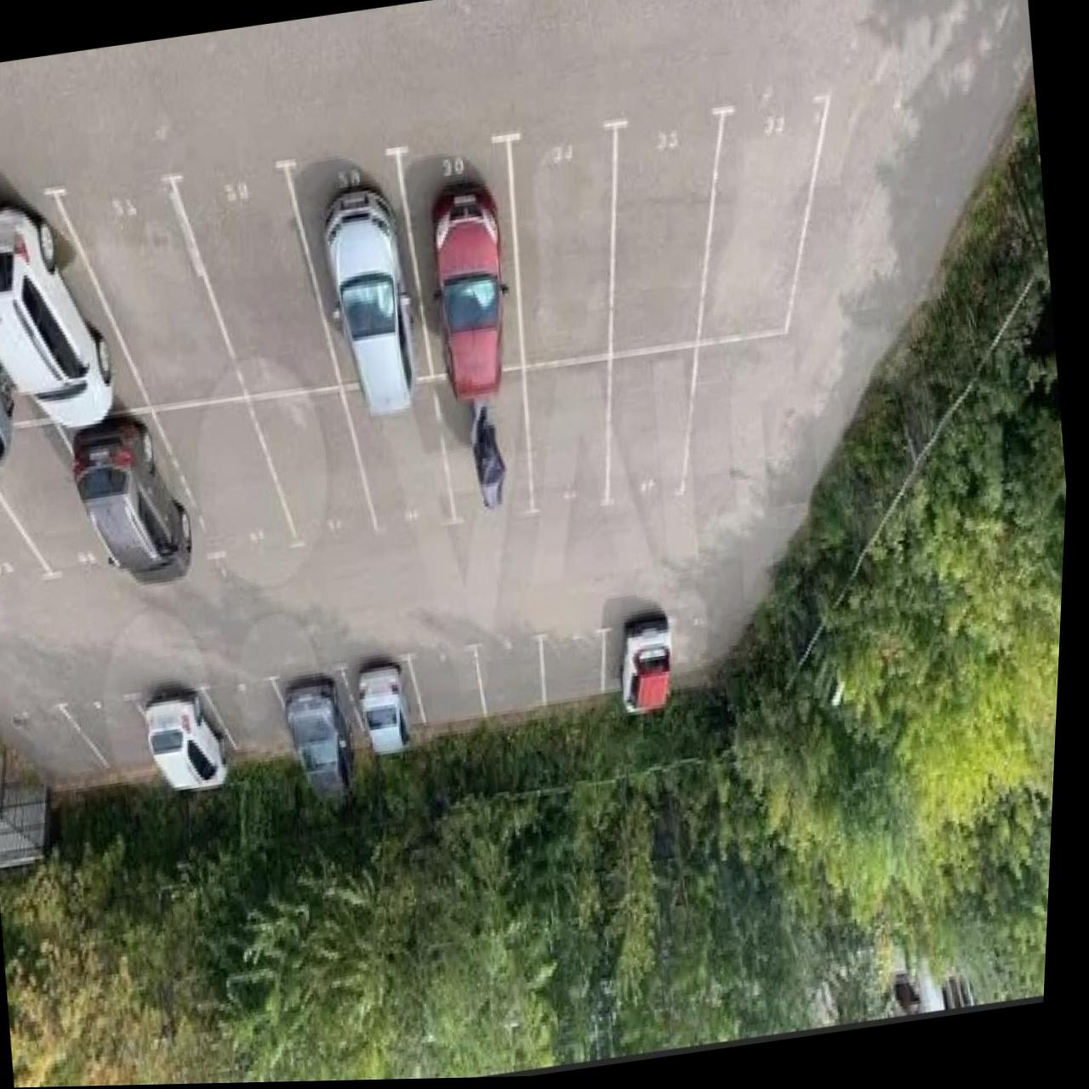cars: (288, 126, 439, 402), (0, 163, 143, 436), (387, 125, 533, 384), (68, 403, 206, 599), (430, 368, 543, 525), (129, 657, 227, 807), (265, 638, 370, 773), (590, 597, 680, 714), (346, 637, 424, 755)
empty: (61, 137, 239, 420), (172, 147, 347, 414), (672, 107, 835, 351), (487, 103, 627, 375), (590, 99, 711, 359), (154, 393, 289, 586), (343, 375, 460, 555), (255, 390, 370, 560), (0, 426, 107, 602), (594, 354, 697, 523), (0, 675, 110, 826), (518, 366, 622, 519), (190, 655, 302, 784), (60, 666, 158, 809), (403, 618, 490, 737), (467, 622, 546, 728), (530, 620, 605, 712)
